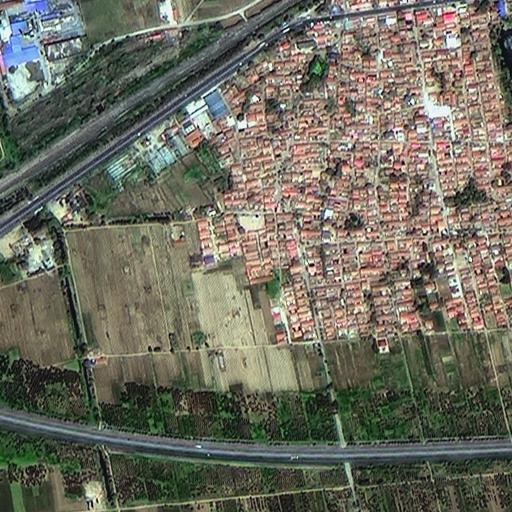school: (235, 211, 272, 284)
